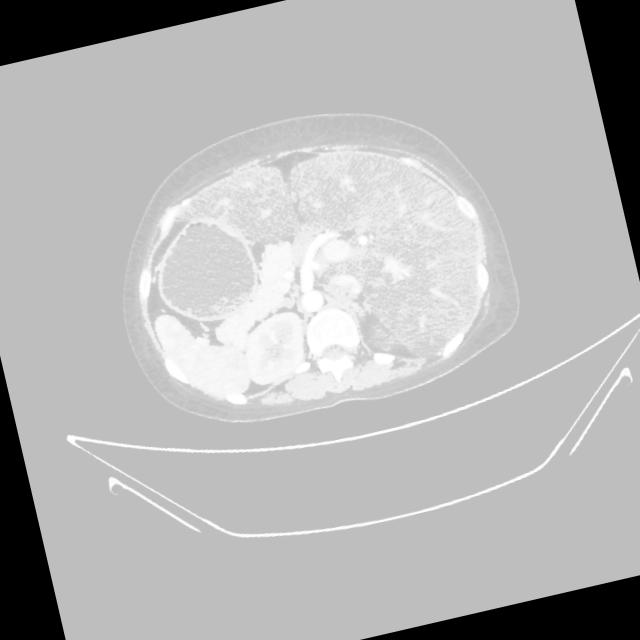NORMAL: (81, 76, 552, 455)
